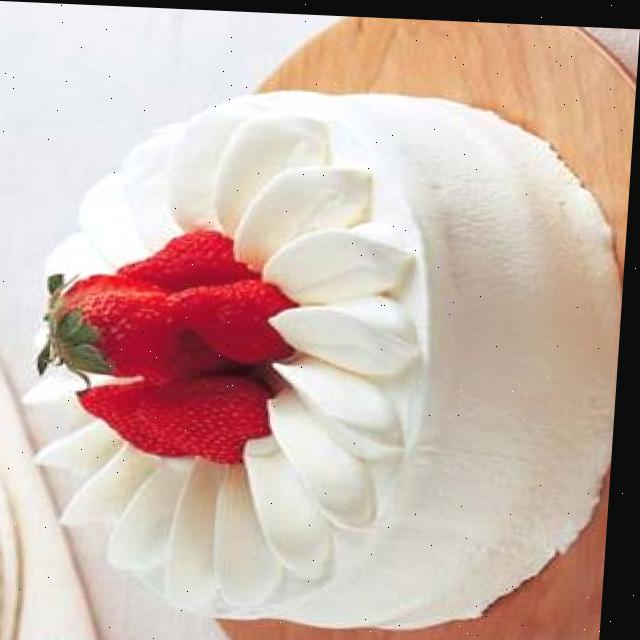蛋糕甜品: (0, 29, 639, 640)
